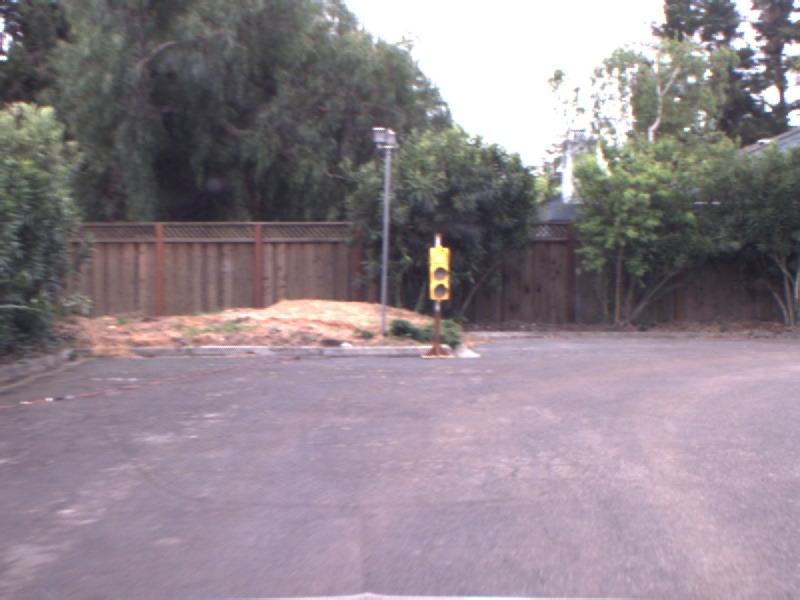red: (425, 242, 456, 303)
